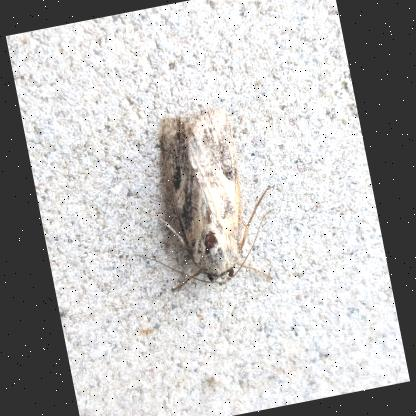Fall Armyworm Moth: (106, 96, 292, 307)
